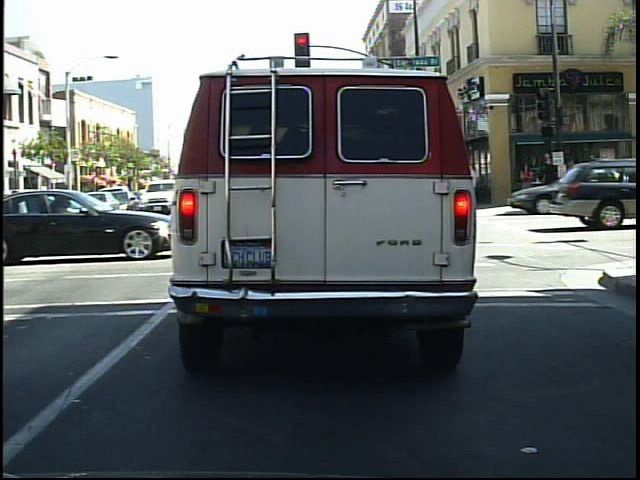person: (537, 154, 561, 209), (539, 147, 560, 209), (516, 157, 539, 207), (554, 158, 574, 208)
